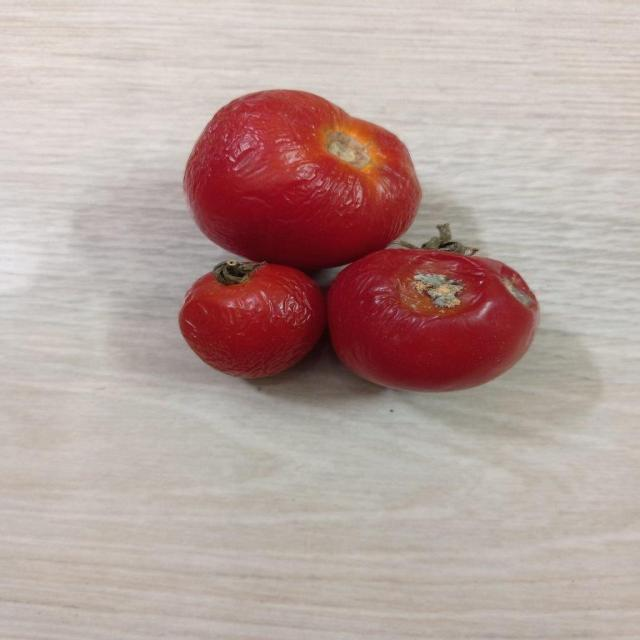Rotten: (325, 241, 537, 394)
overripe: (184, 91, 418, 266), (178, 260, 325, 376)
